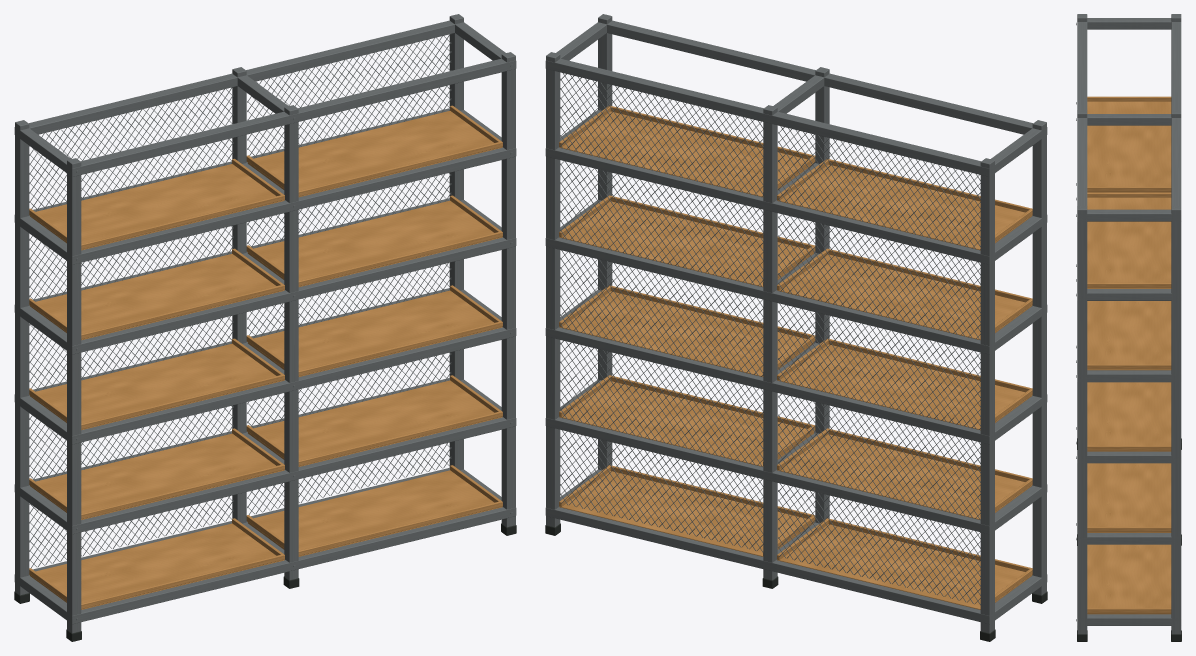
Rendered from cabinet-empty.glb.
3 views of the same model, side by side, from view 1: azimuth 30°, elevation 25°; view 2: azimuth 150°, elevation 25°; view 3: azimuth 270°, elevation 25° (orthographic). The views are drawn at different scales.
Visible parts, largest first — view 1: Diamond steel backing, Diamond steel backing.001, Shelf_5_bay_2, Shelf_2_bay_2, Shelf_3_bay_2, Shelf_4_bay_2, Shelf_1_bay_2, Shelf_3_bay_1, Shelf_5_bay_1, Shelf_1_bay_1, Shelf_2_bay_1, Shelf_4_bay_1 (+36 smaller); view 2: Diamond steel backing.001, Diamond steel backing, Shelf_1_bay_2, Shelf_3_bay_2, Shelf_5_bay_2, Shelf_2_bay_2, Shelf_4_bay_2, Shelf_1_bay_1, Shelf_2_bay_1, Shelf_5_bay_1, Shelf_3_bay_1, Shelf_4_bay_1 (+31 smaller); view 3: Shelf_5_bay_1, Shelf_5_bay_2, Shelf_1_bay_2, Shelf_3_bay_2, Shelf_2_bay_2, Shelf_4_bay_2, Frame_post_1.0375_0.215, Frame_post_1.0375_-0.215, Crossbeam_2.165_0.215, Crossbeam_2.165_-0.215, Side tie.008, Side tie.017 (+14 smaller).
Boxes of the visible parts, x1=… form: Diamond steel backing: x1=29, y1=87, x2=233, y2=567; Diamond steel backing.001: x1=247, y1=34, x2=451, y2=514; Shelf_5_bay_2: x1=246, y1=111, x2=502, y2=197; Shelf_2_bay_2: x1=246, y1=380, x2=502, y2=466; Shelf_3_bay_2: x1=246, y1=290, x2=502, y2=376; Shelf_4_bay_2: x1=246, y1=200, x2=502, y2=287; Shelf_1_bay_2: x1=247, y1=470, x2=502, y2=556; Shelf_3_bay_1: x1=29, y1=343, x2=284, y2=430; Shelf_5_bay_1: x1=29, y1=164, x2=284, y2=250; Shelf_1_bay_1: x1=29, y1=523, x2=284, y2=609; Shelf_2_bay_1: x1=29, y1=433, x2=284, y2=519; Shelf_4_bay_1: x1=29, y1=254, x2=284, y2=340; Diamond steel backing.001: x1=560, y1=73, x2=763, y2=552; Diamond steel backing: x1=778, y1=126, x2=980, y2=604; Shelf_1_bay_2: x1=559, y1=471, x2=814, y2=556; Shelf_3_bay_2: x1=559, y1=291, x2=814, y2=376; Shelf_5_bay_2: x1=559, y1=111, x2=815, y2=197; Shelf_2_bay_2: x1=559, y1=381, x2=815, y2=466; Shelf_4_bay_2: x1=559, y1=201, x2=815, y2=286; Shelf_1_bay_1: x1=777, y1=524, x2=1032, y2=609; Shelf_2_bay_1: x1=777, y1=434, x2=1032, y2=519; Shelf_5_bay_1: x1=777, y1=164, x2=1032, y2=250; Shelf_3_bay_1: x1=777, y1=344, x2=1032, y2=430; Shelf_4_bay_1: x1=777, y1=254, x2=1032, y2=339; Shelf_5_bay_1: x1=1087, y1=101, x2=1171, y2=192; Shelf_5_bay_2: x1=1087, y1=197, x2=1171, y2=288; Shelf_1_bay_2: x1=1087, y1=544, x2=1171, y2=614; Shelf_3_bay_2: x1=1087, y1=382, x2=1171, y2=451; Shelf_2_bay_2: x1=1087, y1=463, x2=1171, y2=532; Shelf_4_bay_2: x1=1087, y1=301, x2=1171, y2=370; Frame_post_1.0375_0.215: x1=1171, y1=206, x2=1181, y2=634; Frame_post_1.0375_-0.215: x1=1077, y1=206, x2=1087, y2=634; Crossbeam_2.165_0.215: x1=1171, y1=22, x2=1181, y2=221; Crossbeam_2.165_-0.215: x1=1077, y1=22, x2=1087, y2=221; Side tie.008: x1=1079, y1=451, x2=1179, y2=463; Side tie.017: x1=1080, y1=209, x2=1178, y2=221.
Size of the model in its own units: 2.13 by 2.18 by 0.4835.
Materials: 4 (3 with a texture image).
